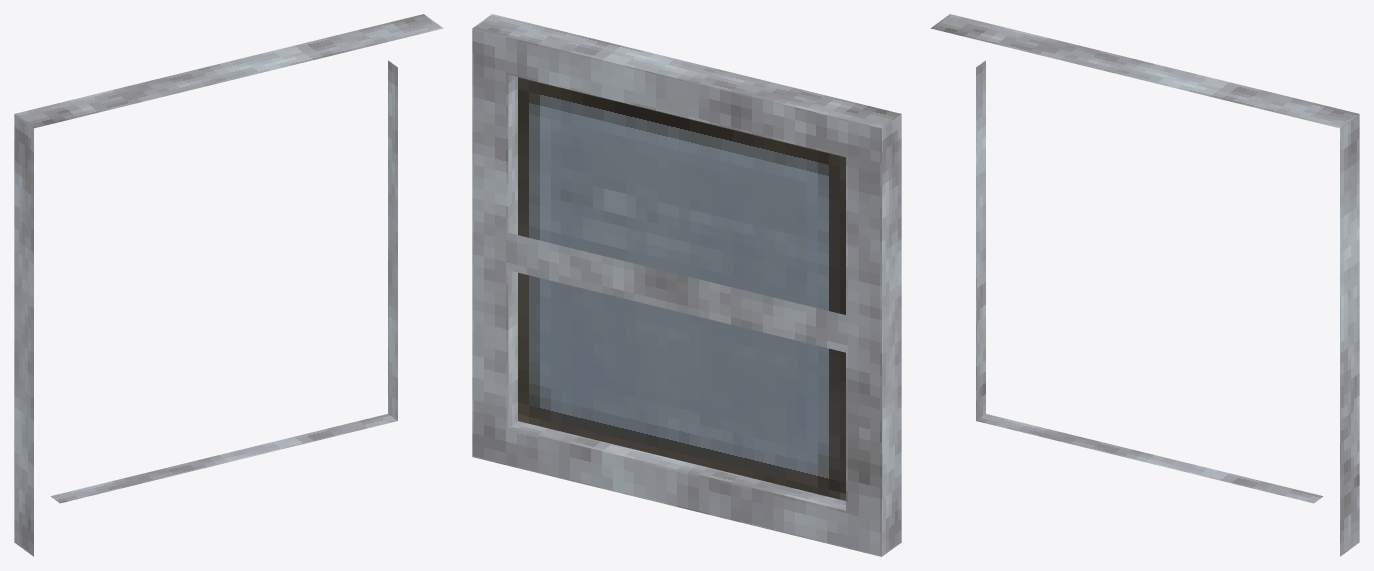
The model's file is window-wide-type-a.glb.
The picture shows the model from 3 angles, left to right: view 1: azimuth 30°, elevation 25°; view 2: azimuth 150°, elevation 25°; view 3: azimuth 330°, elevation 25°; orthographic projection.
Parts seen in each view (by area): view 1: window-wide-type-a; view 2: window-wide-type-a; view 3: window-wide-type-a.
Part boxes in pixels (box(x1,y1,x2,y2)): window-wide-type-a: box(14, 14, 443, 556); window-wide-type-a: box(472, 14, 901, 556); window-wide-type-a: box(930, 14, 1359, 556).
Size of the model in its own units: 0.5978 by 0.5978 by 0.05.
Materials: 2 (2 with a texture image).
